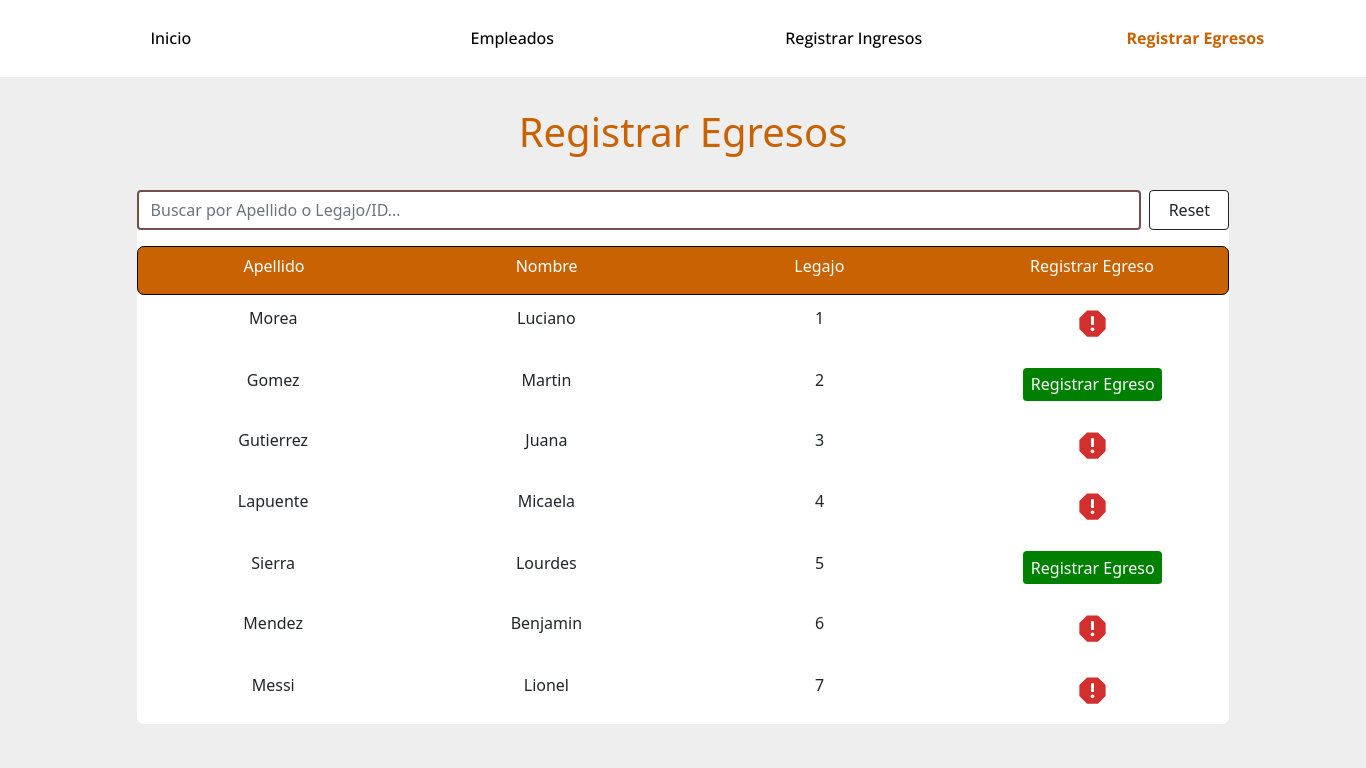
Test: Egresos › tooltip no se encuentra trabajando
Click the link "Registrar Egresos": (1195, 38) 1126,26 -> 1264,50
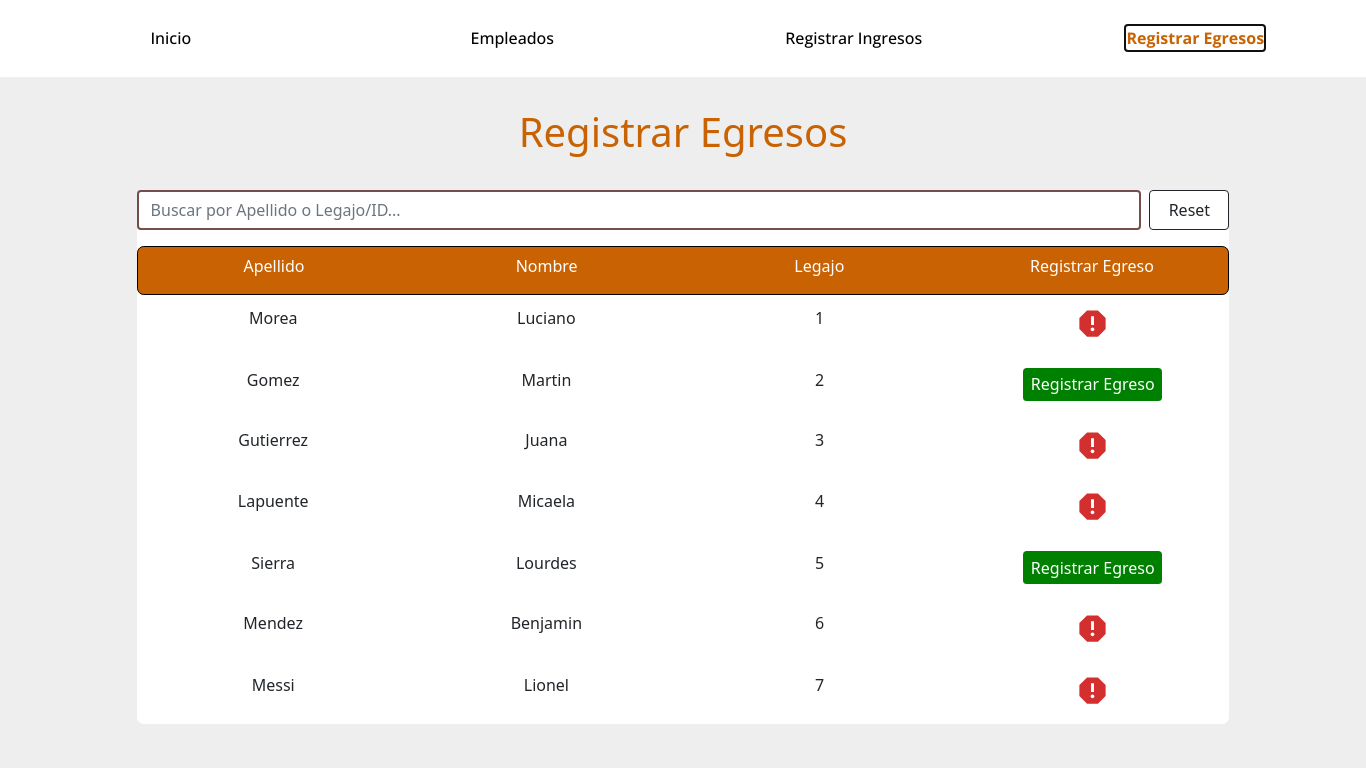
Expected: the search field is shown, 137,190 -> 1141,230
Hover over the icon with test id "ReportIcon" in the row of "Luciano": (1093, 324) 1075,306 -> 1110,341
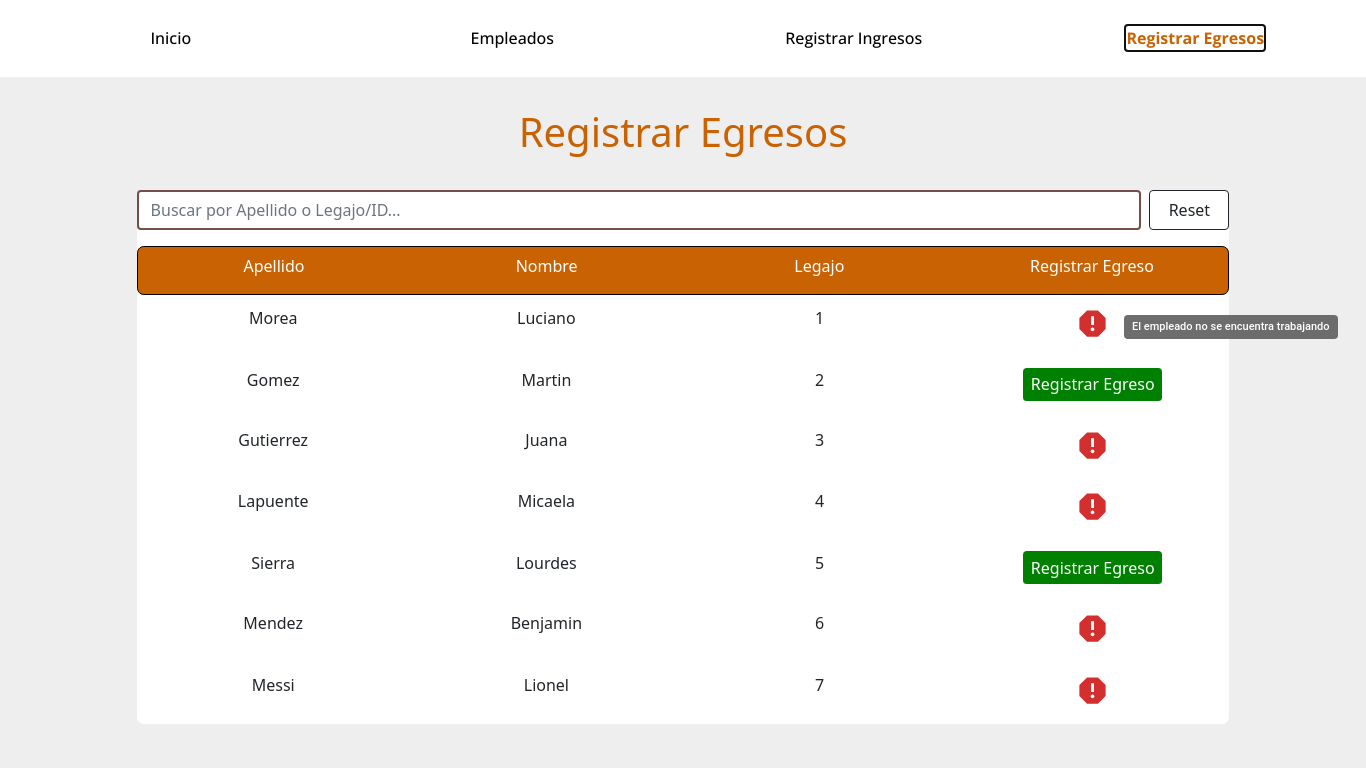
Expected: the text "El empleado no se encuentra trabajando" is shown, 1124,314 -> 1338,339
Move the pointer off the icon with test id "ReportIcon" in the row of "Luciano", box 1075,306 -> 1110,341
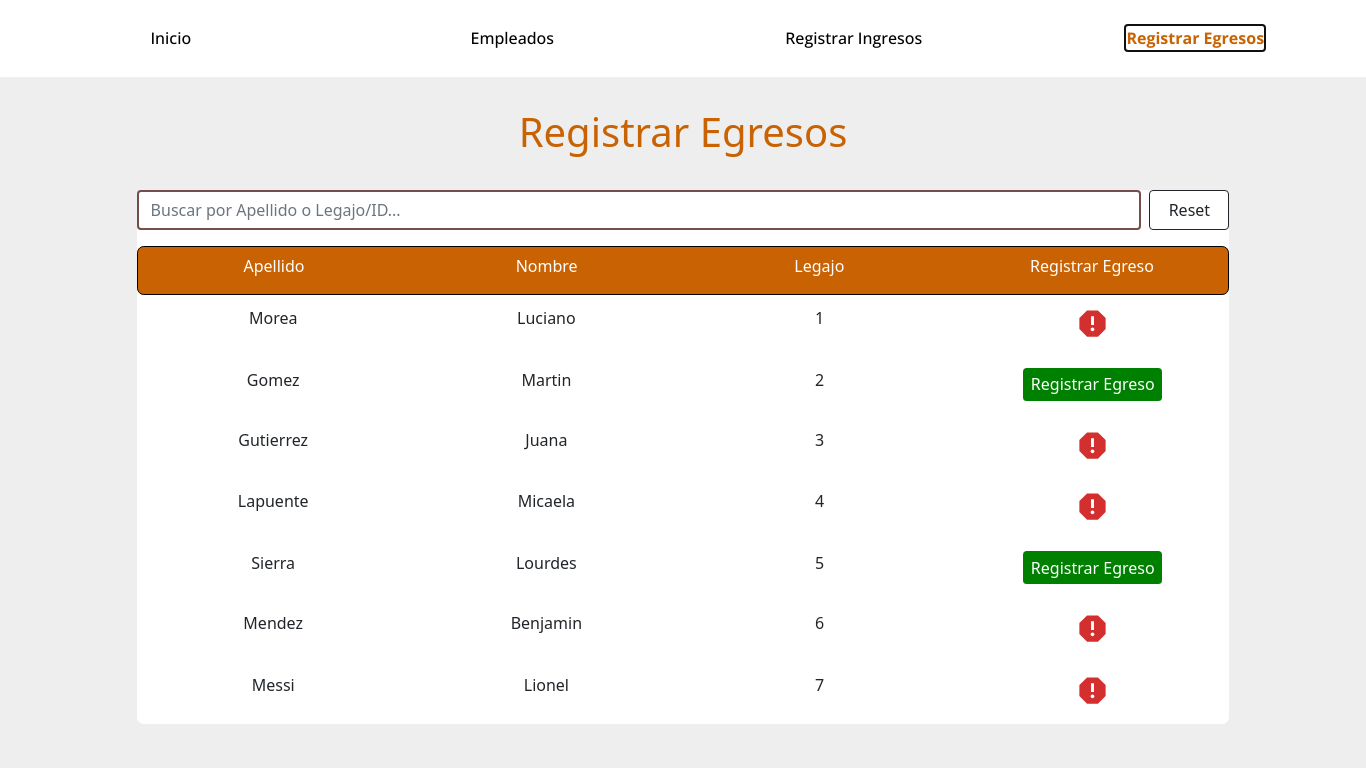
Expected: the text "El empleado no se encuentra trabajando" is gone
